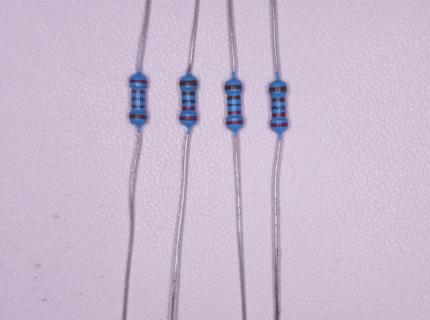Black band: (181, 99, 196, 103), (131, 97, 146, 101), (272, 106, 286, 110), (227, 103, 241, 107)
Brown band: (179, 80, 198, 86), (269, 86, 287, 92), (225, 85, 242, 90), (129, 115, 147, 119), (182, 91, 196, 96), (227, 95, 241, 100), (272, 97, 286, 102), (131, 105, 145, 108)
Red band: (225, 120, 244, 125), (272, 112, 286, 118), (180, 116, 198, 120), (270, 123, 288, 127), (182, 106, 196, 111), (130, 80, 147, 84), (132, 89, 145, 94), (228, 110, 241, 115)
